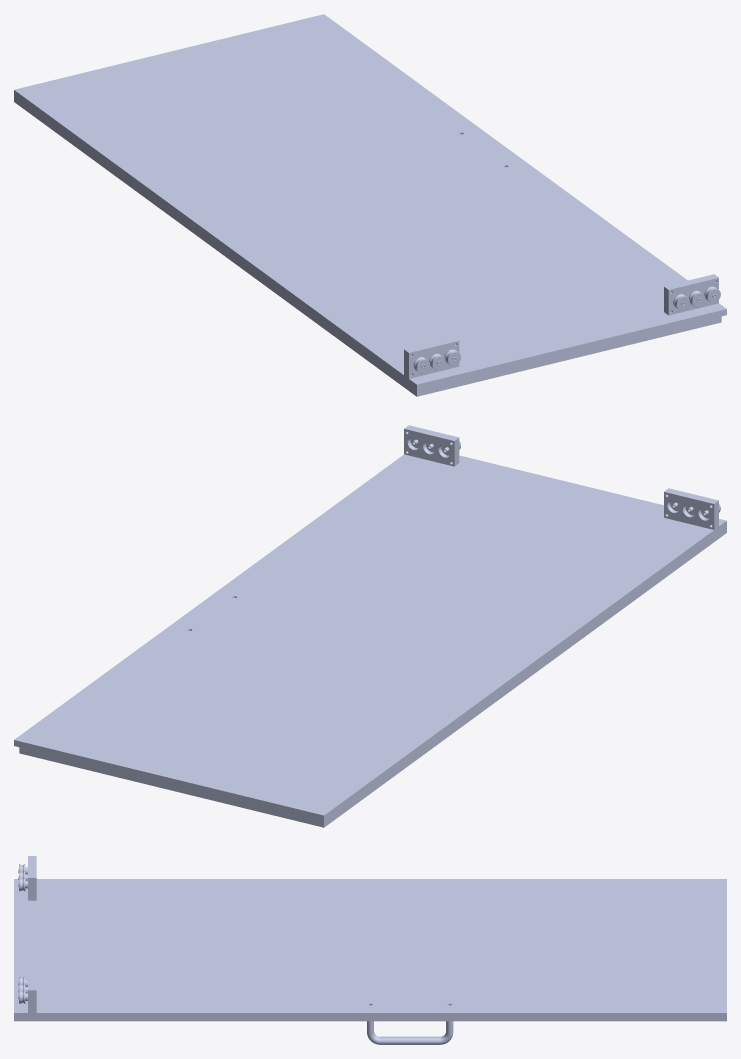
Rendered from TrRechts.DAE.
3 views of the same model, one above another, from view 1: azimuth 30°, elevation 25°; view 2: azimuth 150°, elevation 25°; view 3: azimuth 270°, elevation 25° (orthographic). The views are drawn at different scales.
Parts seen in each view (by area): view 1: AST7A479696-DC_Brep; view 2: AST7A479696-DC_Brep; view 3: AST7A479696-DC_Brep.
Part boxes in pixels (x1=…): AST7A479696-DC_Brep: x1=14, y1=14, x2=726, y2=396; AST7A479696-DC_Brep: x1=14, y1=425, x2=726, y2=827; AST7A479696-DC_Brep: x1=14, y1=856, x2=726, y2=1044.
Size of the model in its own units: 1.2 by 2.7 by 0.261.
